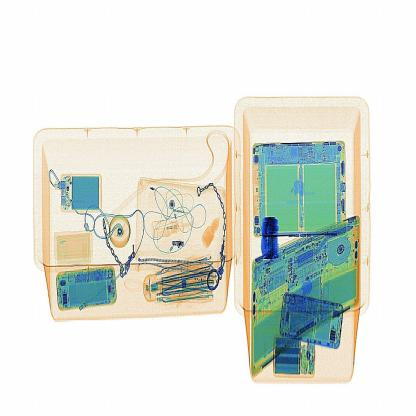scissors: (262, 210, 286, 258)
